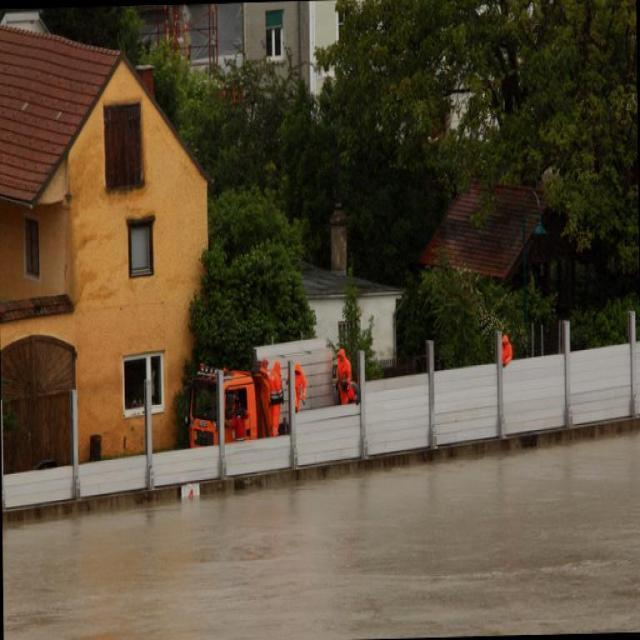flood: (1, 410, 639, 639)
